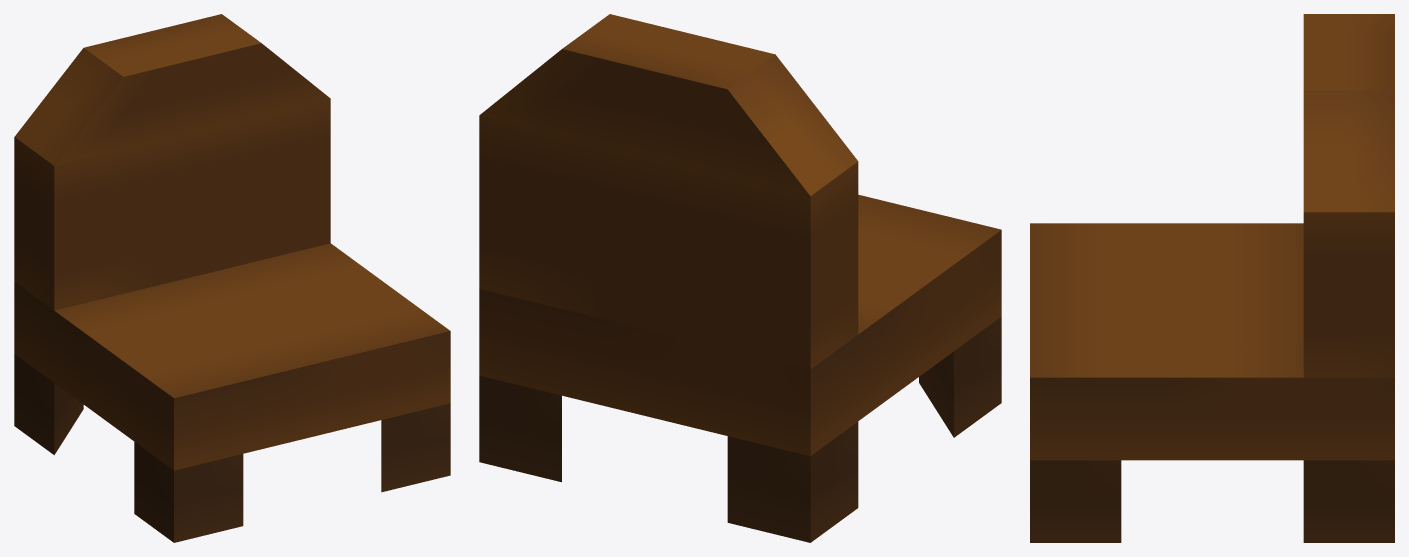
Rendered from chair.obj.
The picture shows the model from 3 angles, left to right: view 1: azimuth 30°, elevation 25°; view 2: azimuth 150°, elevation 25°; view 3: azimuth 270°, elevation 25°; orthographic projection. The views are drawn at different scales.
Parts seen in each view (by area): view 1: Default; view 2: Default; view 3: Default.
Part boxes in pixels (left/top/right/bottom): Default: left=14, top=14, right=450, bottom=542; Default: left=479, top=14, right=1001, bottom=542; Default: left=1030, top=14, right=1394, bottom=542.
Bounding box in the file's own units: 0.5 × 0.625 × 0.5.
